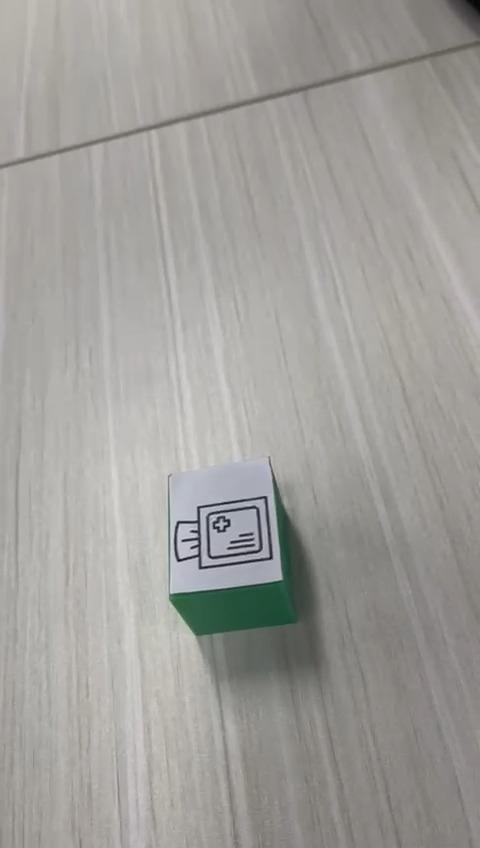Gauze: (165, 455, 298, 636)
